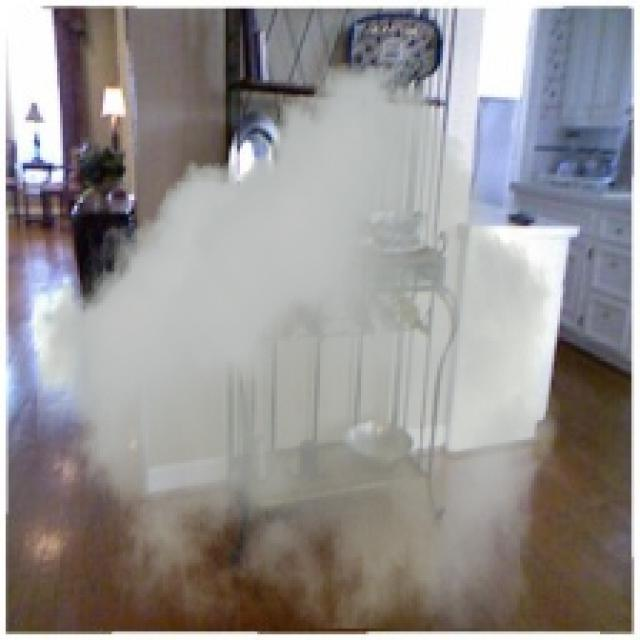smoke: (37, 63, 560, 628)
